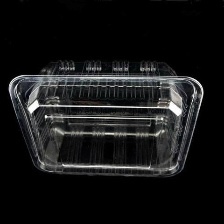plastic_box: (0, 54, 212, 185)
